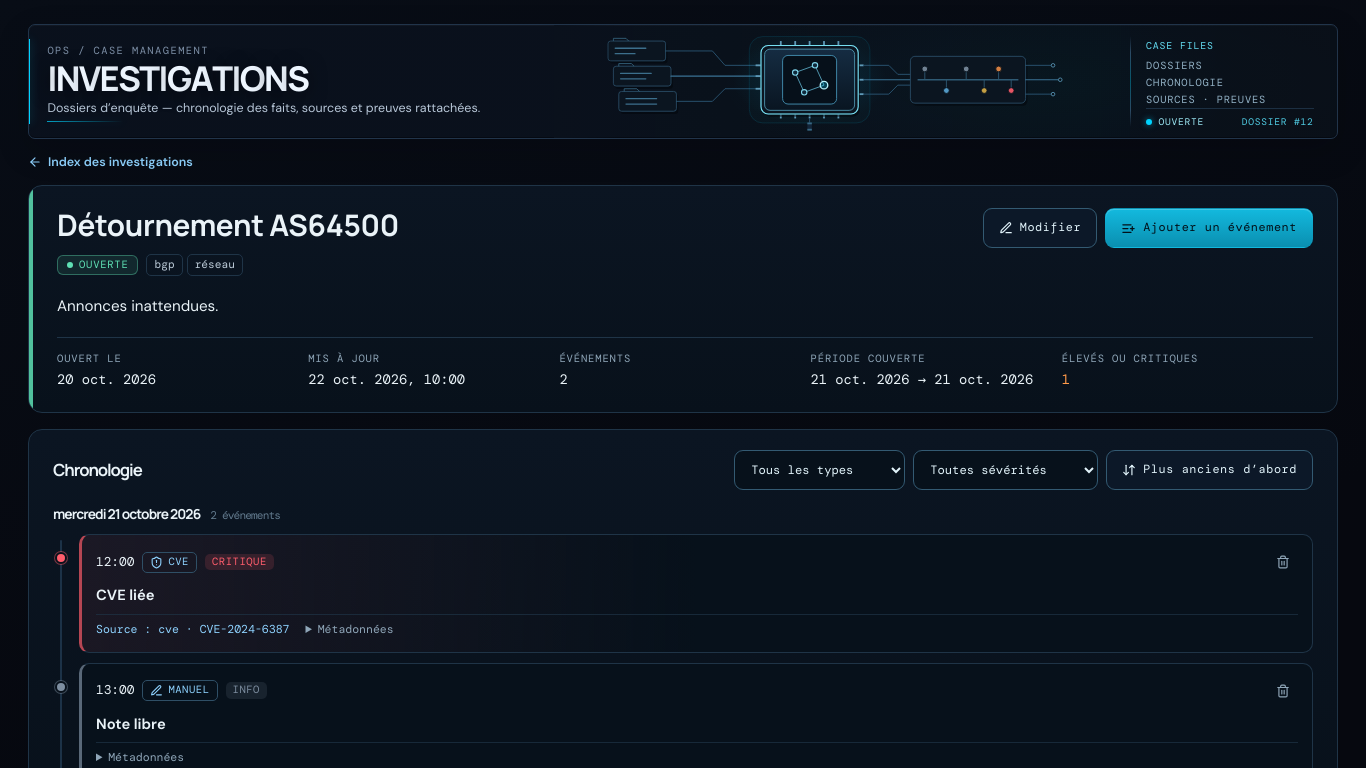
Scenario: Investigations 2026 — fiche › affiche les métadonnées JSON formatées, et le texte libre tel quel
Step 1. Click the heading "Métadonnées" next to "cve · CVE-2024-6387" → (350, 630), box [306, 623, 394, 638]
(page scrolled)
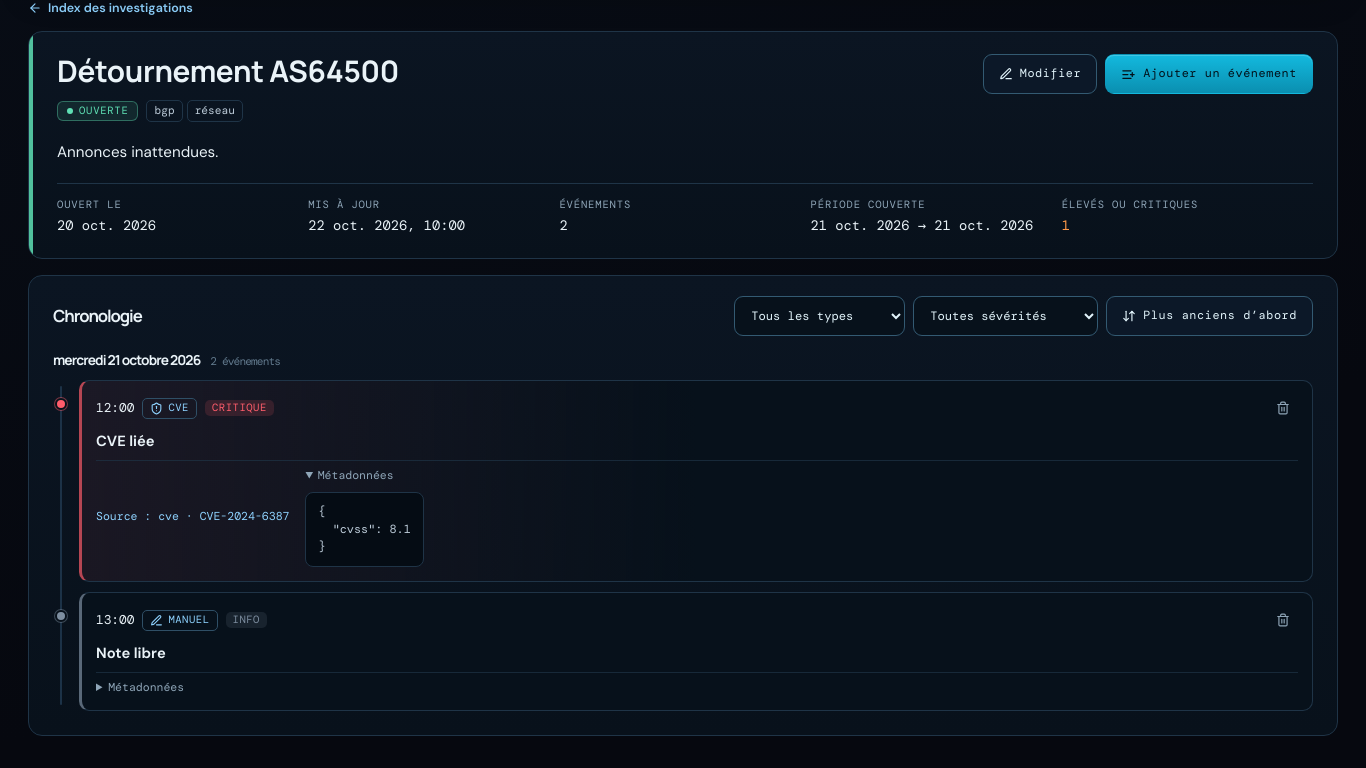
Step 2. Click the heading "Métadonnées" below "Note libre" → (140, 688), box [96, 681, 184, 696]
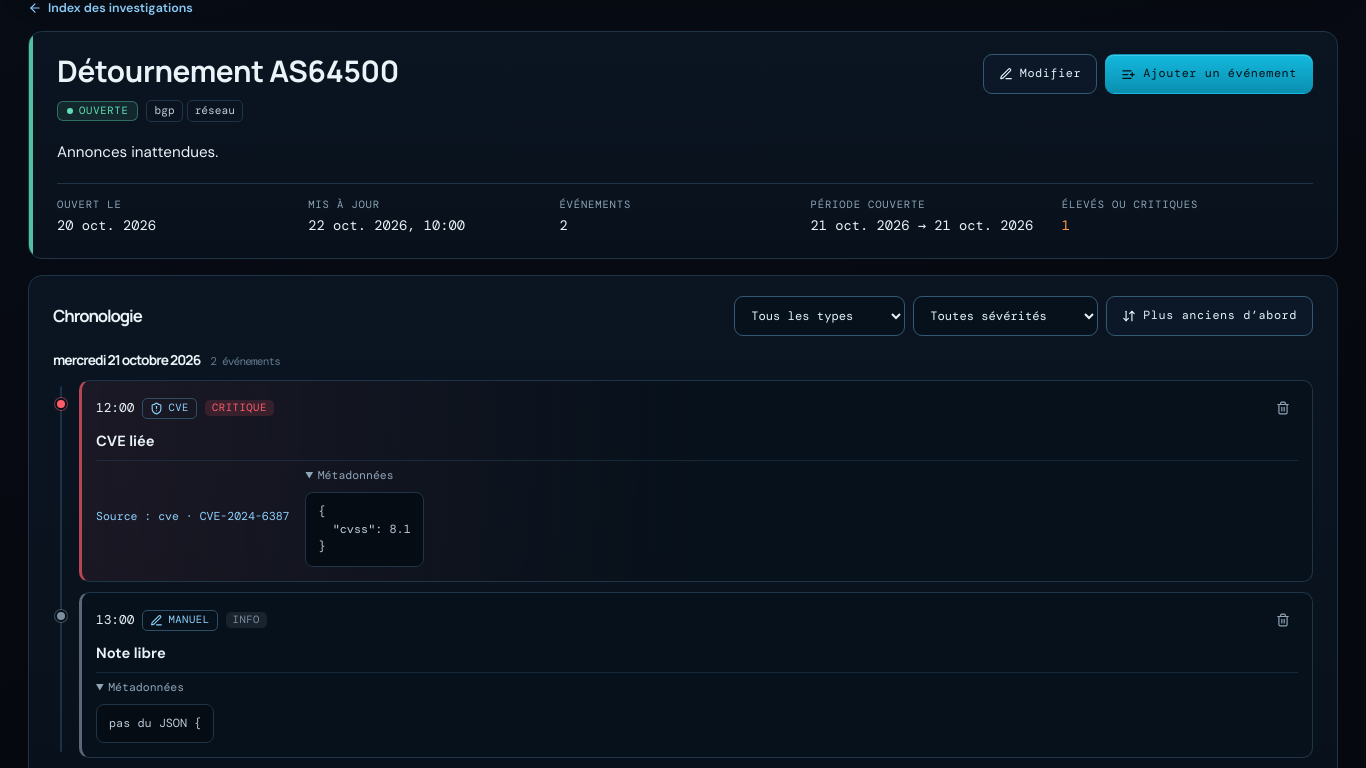
Check: the text "pas du JSON {" is shown, box [96, 704, 214, 743]
